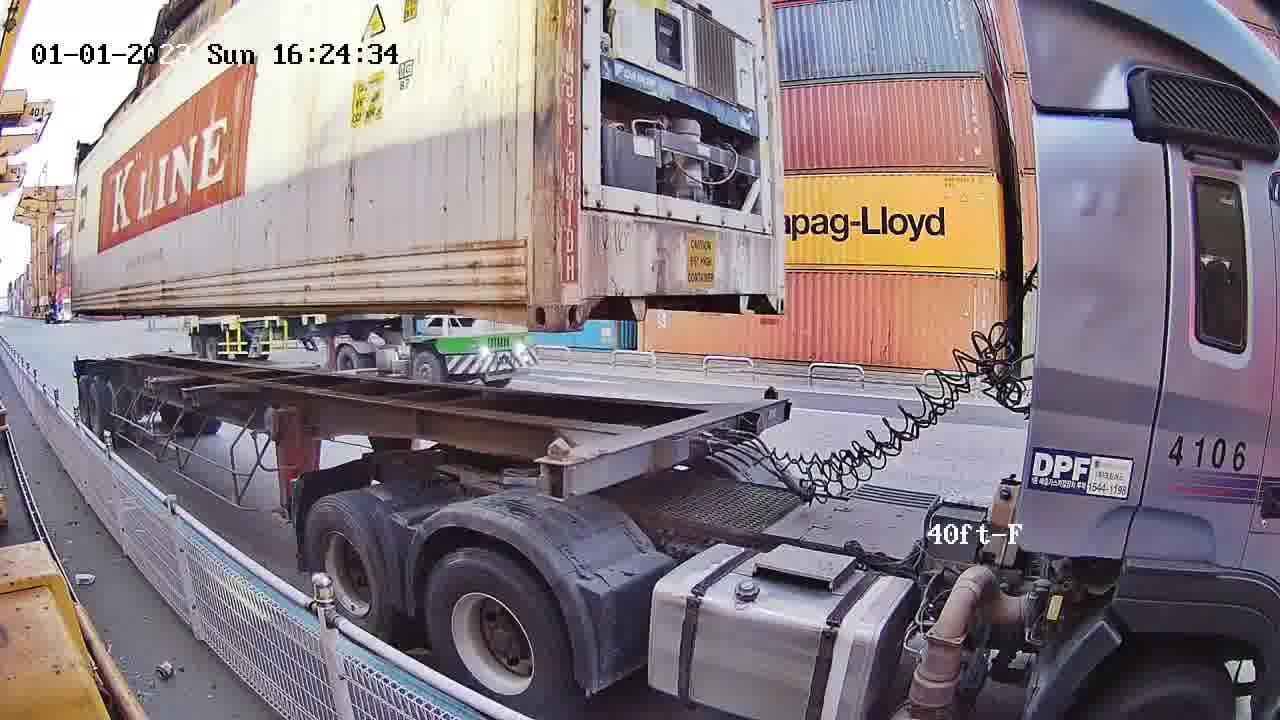Chassis: (540, 393, 789, 497)
Cone: (536, 435, 574, 502), (758, 382, 781, 421)
Hole_L: (561, 250, 621, 329)
Hole_R: (497, 252, 564, 333), (752, 256, 786, 314)
Tire: (426, 550, 567, 710), (301, 497, 388, 636)
